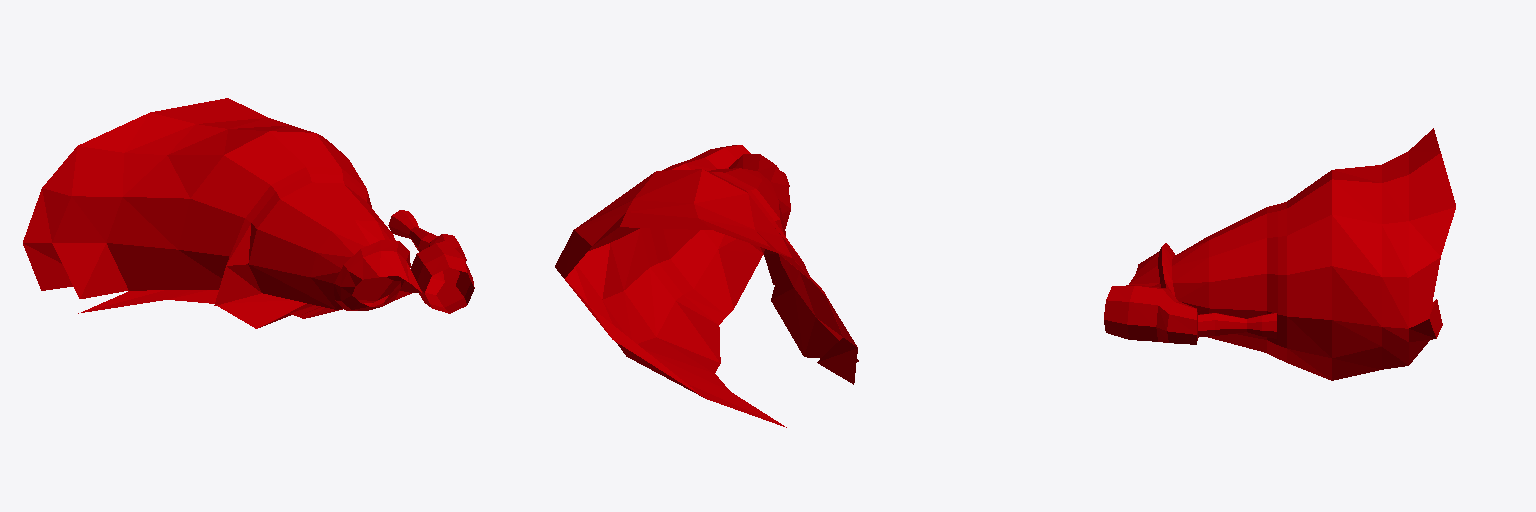
File: vestido.obj
3 views of the same model, side by side, from view 1: azimuth 30°, elevation 25°; view 2: azimuth 150°, elevation 25°; view 3: azimuth 270°, elevation 25° (orthographic).
Visible parts, largest first — view 1: pCylinder35; view 2: pCylinder35; view 3: pCylinder35.
Part boxes in pixels (bbox=[...]): pCylinder35: bbox=[23, 98, 474, 328]; pCylinder35: bbox=[555, 145, 858, 427]; pCylinder35: bbox=[1104, 128, 1455, 380].
Bounding box in the file's own units: 7.24 × 4.11 × 6.84.